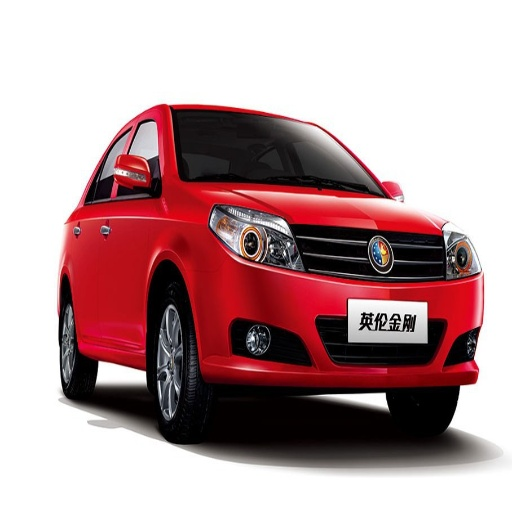front_bumper: (193, 226, 483, 393)
front_left_light: (445, 230, 480, 280)
front_right_door: (112, 114, 166, 211)
front_right_light: (210, 207, 305, 272)
trunk: (73, 212, 177, 336)
